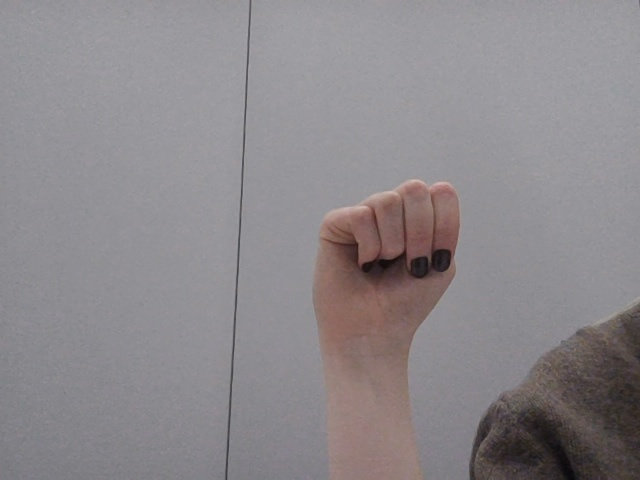down: (298, 171, 470, 403)
